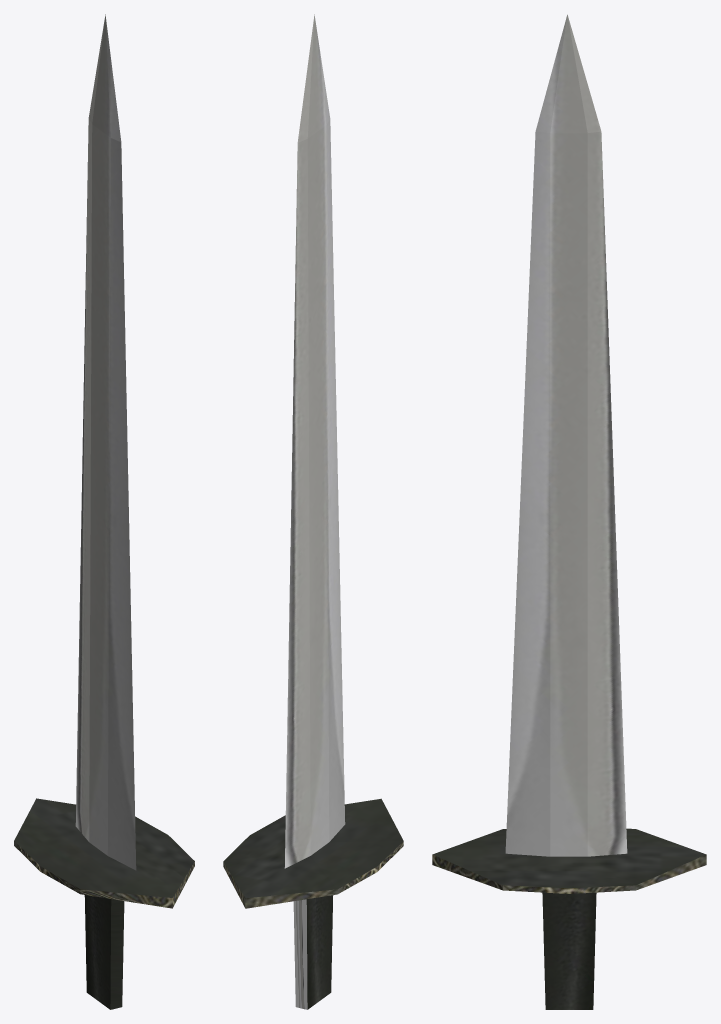
Rendered from sword.glb.
3 views of the same model, side by side, from view 1: azimuth 30°, elevation 25°; view 2: azimuth 150°, elevation 25°; view 3: azimuth 270°, elevation 25° (orthographic).
Parts seen in each view (by area): view 1: Cube.001; view 2: Cube.001; view 3: Cube.001.
Boxes of the visible parts, bbox=[...] form: Cube.001: bbox=[14, 14, 194, 1009]; Cube.001: bbox=[223, 14, 403, 1009]; Cube.001: bbox=[432, 14, 706, 1009].
Bounding box in the file's own units: 0.2481 × 1.83 × 0.4582.
1 material, 1 textured.
